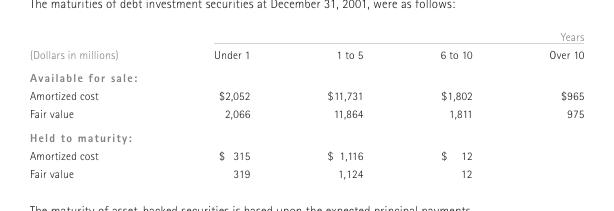table: (28, 29, 583, 179)
table column: (28, 29, 165, 179), (165, 29, 287, 179), (287, 29, 400, 179), (400, 29, 510, 179), (510, 29, 583, 179)
table column header: (28, 29, 583, 65)
table projected row header: (28, 65, 583, 86), (28, 124, 583, 145)
table row: (28, 44, 583, 65), (28, 65, 583, 86), (28, 124, 583, 145), (28, 104, 583, 124), (28, 86, 583, 104), (28, 145, 583, 163), (28, 163, 583, 179), (28, 29, 583, 44)
table spanning cell: (165, 29, 583, 44), (28, 29, 165, 65)
